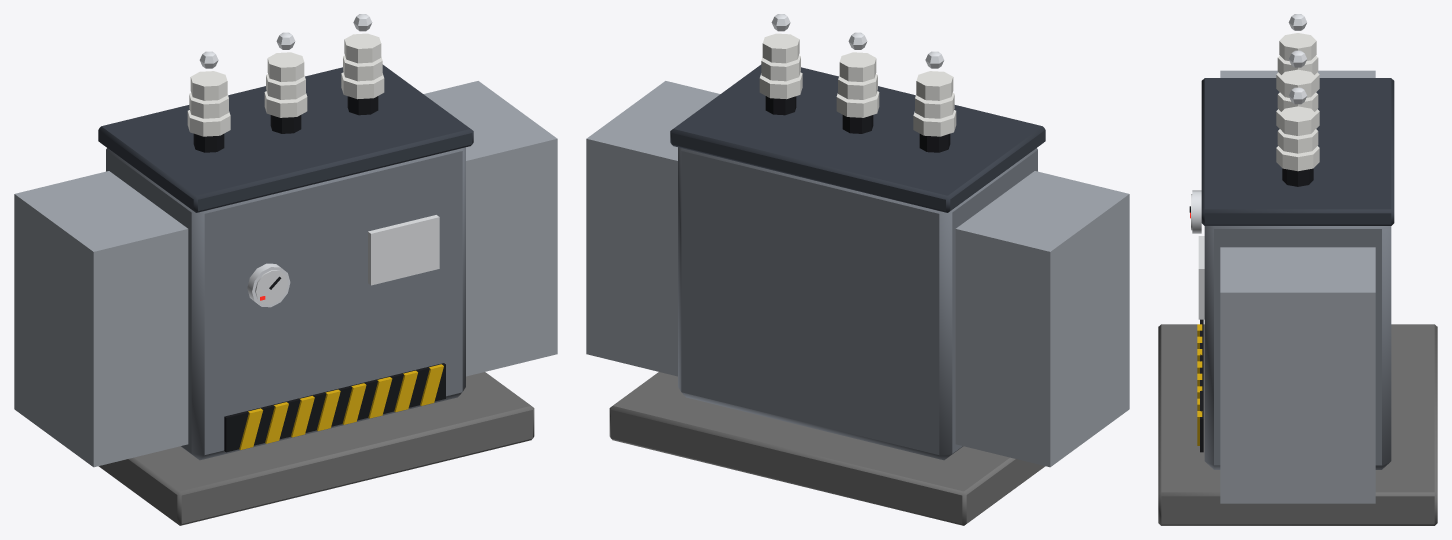
Rendered from generator_pad_transformer.glb.
3 views of the same model, side by side, from view 1: azimuth 30°, elevation 25°; view 2: azimuth 150°, elevation 25°; view 3: azimuth 270°, elevation 25° (orthographic). The views are drawn at different scales.
Visible parts, largest first — view 1: generator_pad_transformer; view 2: generator_pad_transformer; view 3: generator_pad_transformer.
Boxes of the visible parts, x1=… form: generator_pad_transformer: x1=14, y1=14, x2=557, y2=525; generator_pad_transformer: x1=586, y1=14, x2=1129, y2=525; generator_pad_transformer: x1=1158, y1=14, x2=1437, y2=525.
Size of the model in its own units: 1.69 by 1.39 by 0.9.
